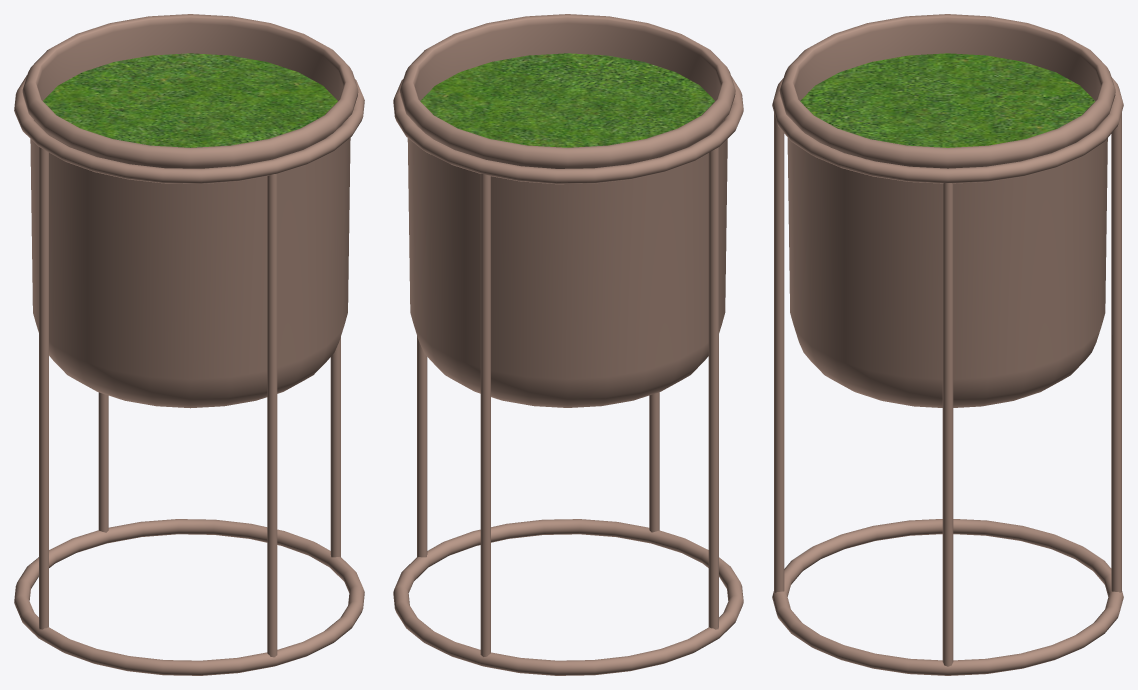
The model's file is pot23.FBX.
3 views of the same model, side by side, from view 1: azimuth 30°, elevation 25°; view 2: azimuth 150°, elevation 25°; view 3: azimuth 270°, elevation 25° (orthographic).
Visible parts, largest first — view 1: pot23; view 2: pot23; view 3: pot23.
Boxes of the visible parts, x1,y1,x2,y2 form: pot23: [14, 14, 364, 675]; pot23: [393, 14, 743, 675]; pot23: [772, 14, 1123, 675].
Bounding box in the file's own units: 10.16 × 10.16 × 16.64.
